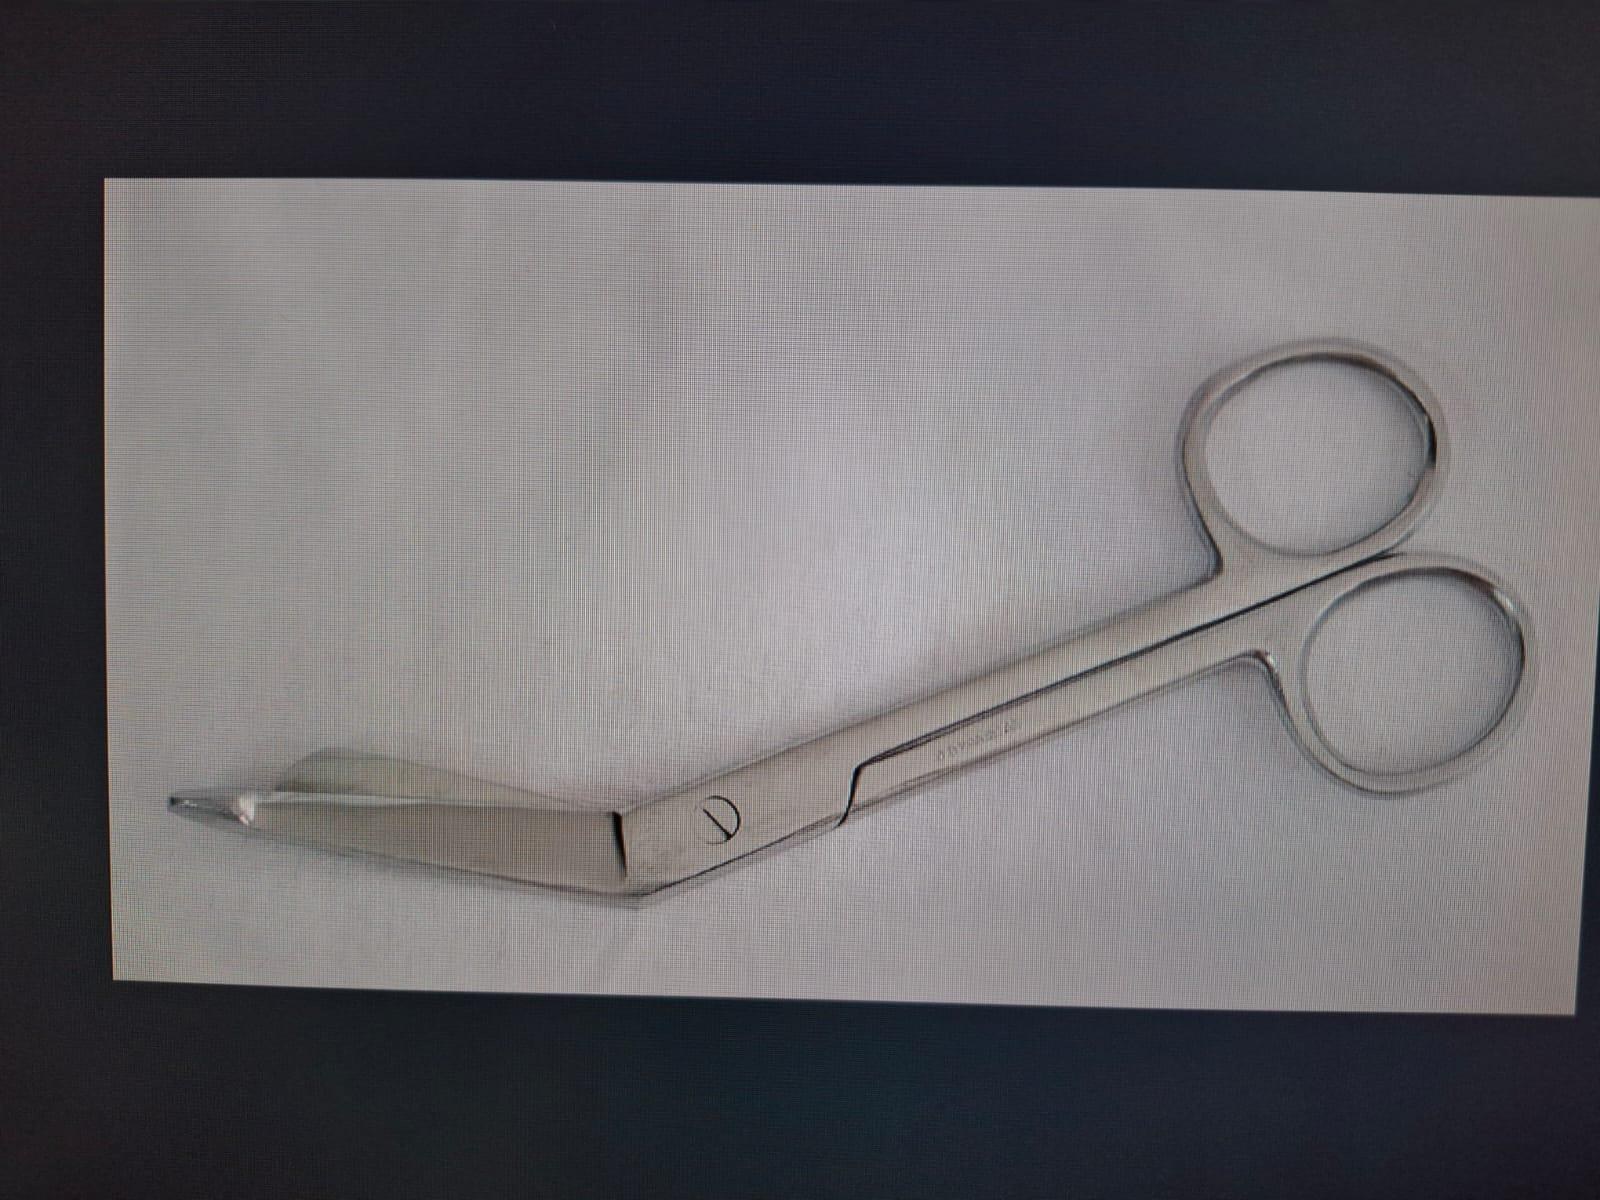Bandage Sciccors: (170, 338, 1553, 920)
